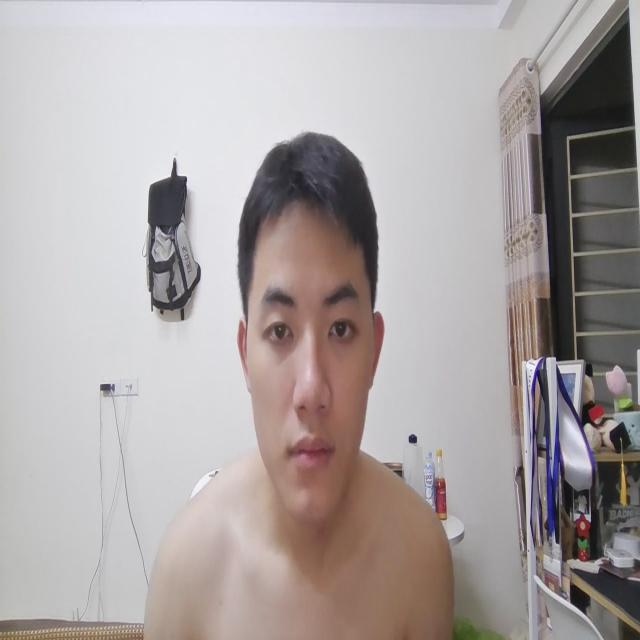student: (177, 114, 455, 640)
